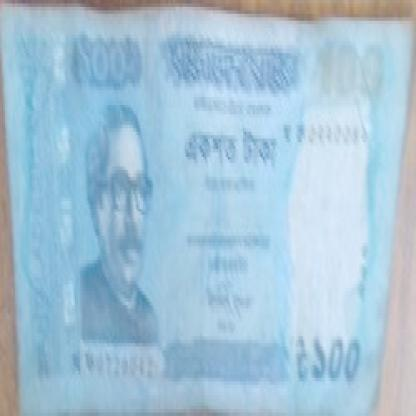one hundred taka: (313, 35, 383, 104), (68, 35, 140, 90), (310, 329, 364, 392)
